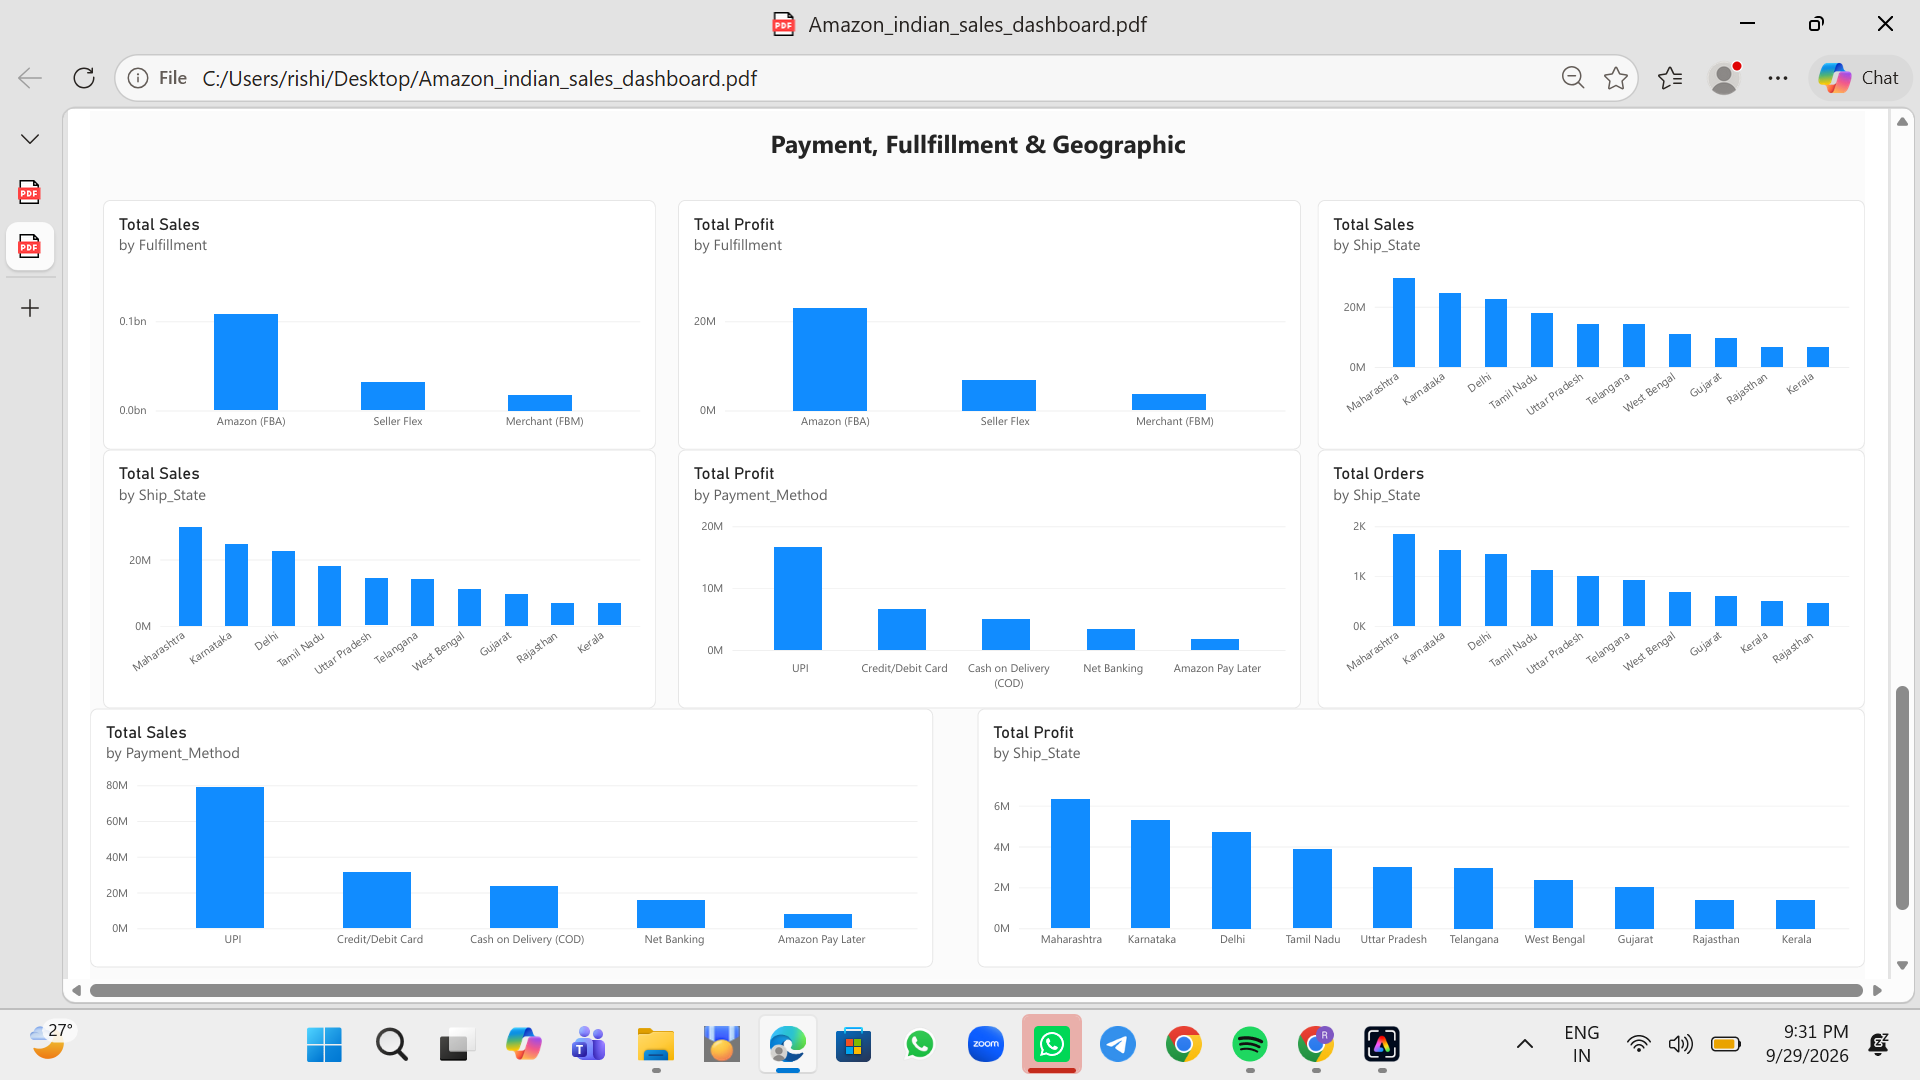

The dashboard page shown, as its layout file describes it:
{"tool":"powerbi","page":{"name":"Payment,Fullfillment & Geographic","canvas":[1920,1080],"ordinal":2},"visuals":[{"type":"clusteredColumnChart","fields":{"Category":["Sheet1.Payment_Method"],"Y":["Sheet1.Total Sales"]},"box":[10,0,502,280],"z":0},{"type":"clusteredColumnChart","fields":{"Category":["Sheet1.Payment_Method"],"Y":["Sheet1.Total Profit"]},"box":[512,0,502,280],"z":1000},{"type":"clusteredColumnChart","fields":{"Category":["Sheet1.Fulfillment"],"Y":["Sheet1.Total Sales"]},"box":[12,280,502,280],"z":2000},{"type":"clusteredColumnChart","fields":{"Category":["Sheet1.Fulfillment"],"Y":["Sheet1.Total Profit"]},"box":[514,280,502,260],"z":3000},{"type":"clusteredColumnChart","fields":{"Category":["Sheet1.Ship_State"],"Y":["Sheet1.Total Sales"]},"box":[12,570,502,280],"z":4000},{"type":"clusteredColumnChart","fields":{"Category":["Sheet1.Ship_State"],"Y":["Sheet1.Total Sales"]},"box":[1020,280,501.7,260],"z":5000},{"type":"clusteredColumnChart","fields":{"Category":["Sheet1.Ship_State"],"Y":["Sheet1.Total Profit"]},"box":[536.7,560,502,280],"z":6000},{"type":"clusteredColumnChart","fields":{"Category":["Sheet1.Ship_State"],"Y":["Sheet1.Total Orders"]},"box":[1014,0,512,280],"z":7000},{"type":"textbox","box":[1016,280,510,260],"z":8000},{"type":"textbox","box":[1536,0,384,280],"z":9000},{"type":"textbox","box":[1536,280,384,260],"z":10000}]}

Visuals, with their boxes on the page's 1920x1080 design canvas (x1, y1, x2, y2). These are canvas units, not pixel positions in the 1920x1080 screenshot, which may show the page scaled, cropped or inside an application window:
clusteredColumnChart - Sheet1.Payment_Method x Sheet1.Total Sales: x1=10, y1=0, x2=512, y2=280
clusteredColumnChart - Sheet1.Payment_Method x Sheet1.Total Profit: x1=512, y1=0, x2=1014, y2=280
clusteredColumnChart - Sheet1.Fulfillment x Sheet1.Total Sales: x1=12, y1=280, x2=514, y2=560
clusteredColumnChart - Sheet1.Fulfillment x Sheet1.Total Profit: x1=514, y1=280, x2=1016, y2=540
clusteredColumnChart - Sheet1.Ship_State x Sheet1.Total Sales: x1=12, y1=570, x2=514, y2=850
clusteredColumnChart - Sheet1.Ship_State x Sheet1.Total Sales: x1=1020, y1=280, x2=1522, y2=540
clusteredColumnChart - Sheet1.Ship_State x Sheet1.Total Profit: x1=537, y1=560, x2=1039, y2=840
clusteredColumnChart - Sheet1.Ship_State x Sheet1.Total Orders: x1=1014, y1=0, x2=1526, y2=280
textbox: x1=1016, y1=280, x2=1526, y2=540
textbox: x1=1536, y1=0, x2=1920, y2=280
textbox: x1=1536, y1=280, x2=1920, y2=540
